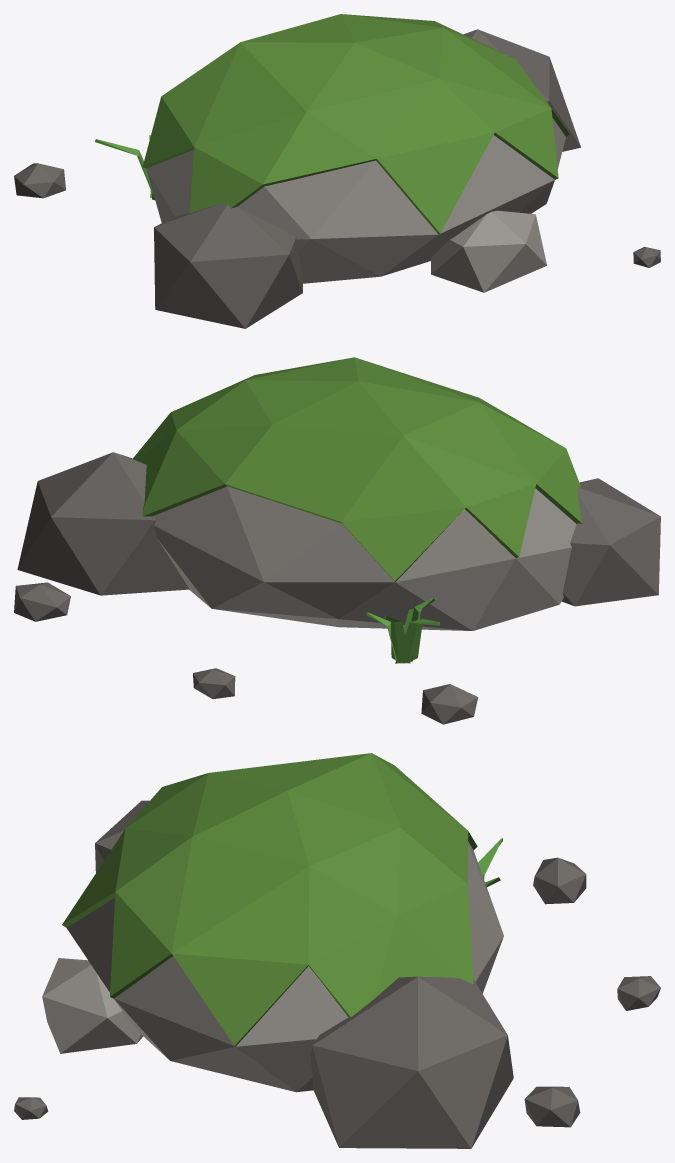
The model's file is quarry-rock-b.glb.
The picture shows the model from 3 angles, top to bottom: view 1: azimuth 30°, elevation 25°; view 2: azimuth 150°, elevation 25°; view 3: azimuth 270°, elevation 25°; orthographic projection. The views are drawn at different scales.
Visible parts, largest first — view 1: QuarryRockB_Moss, QuarryRockB_Stone, QuarryRockB_StoneDark; view 2: QuarryRockB_Moss, QuarryRockB_Stone, QuarryRockB_StoneDark, QuarryRockB_Grass; view 3: QuarryRockB_Moss, QuarryRockB_StoneDark, QuarryRockB_Stone.
Part boxes in pixels (left/top/right/bottom): QuarryRockB_Moss: left=142, top=14, right=569, bottom=234; QuarryRockB_Stone: left=146, top=118, right=565, bottom=292; QuarryRockB_StoneDark: left=14, top=29, right=660, bottom=328; QuarryRockB_Moss: left=133, top=357, right=582, bottom=582; QuarryRockB_Stone: left=153, top=486, right=576, bottom=630; QuarryRockB_StoneDark: left=14, top=452, right=660, bottom=724; QuarryRockB_Grass: left=366, top=598, right=439, bottom=663; QuarryRockB_Moss: left=62, top=753, right=477, bottom=1046; QuarryRockB_StoneDark: left=14, top=800, right=660, bottom=1148; QuarryRockB_Stone: left=42, top=841, right=503, bottom=1092.
Size of the model in its own units: 5.94 by 2.13 by 5.71.
